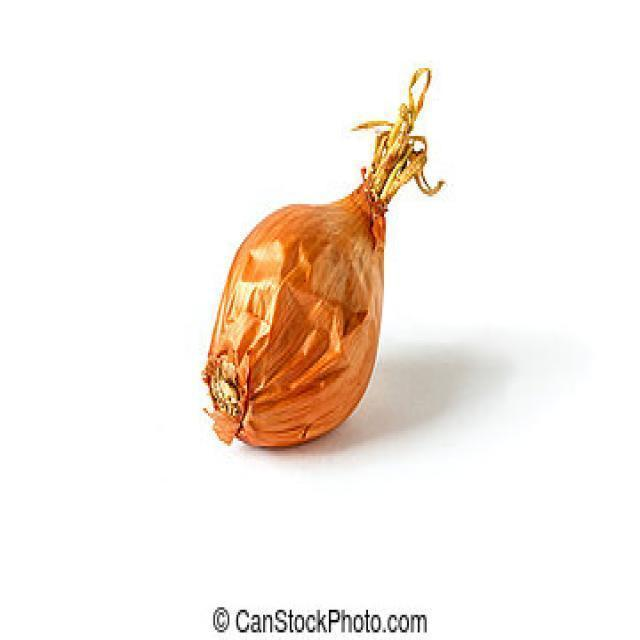Onion: (203, 169, 390, 446), (355, 65, 446, 205)
